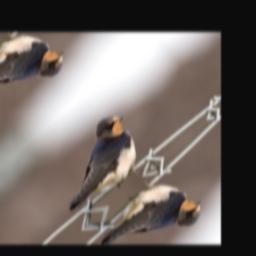Swallow: (36, 106, 159, 224)
